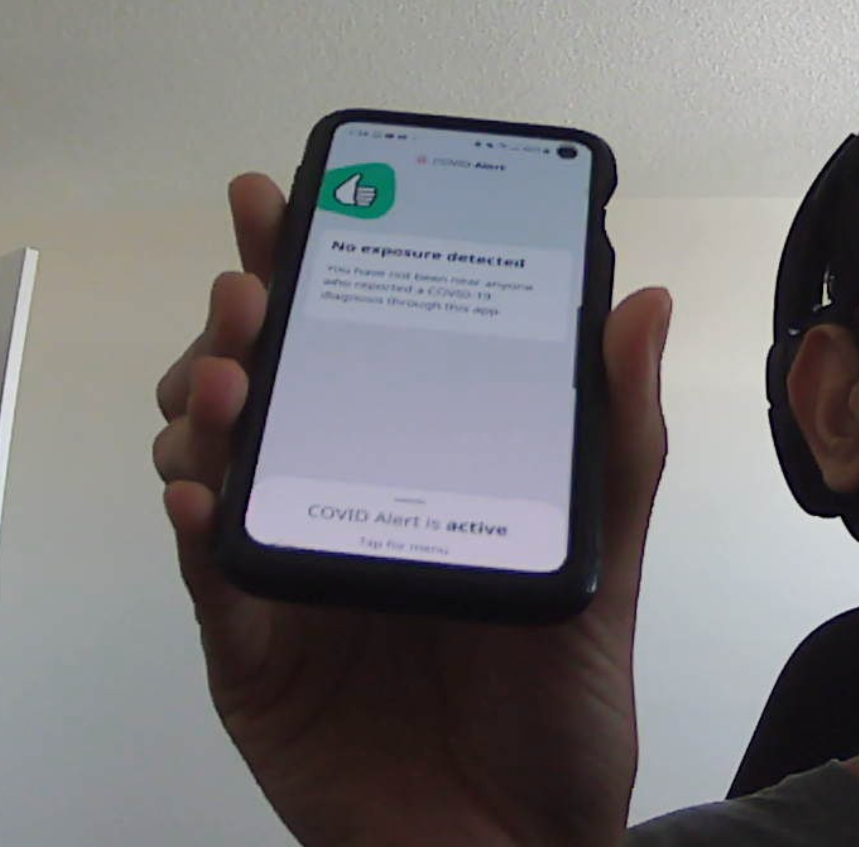Safe: (313, 155, 558, 272)
